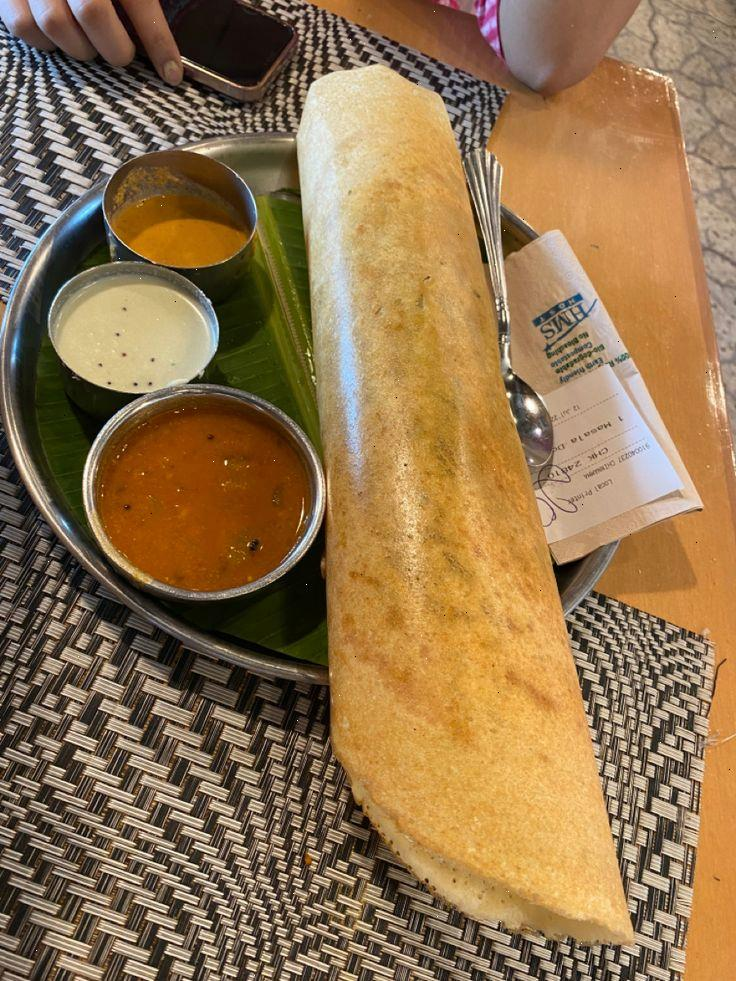dosa: (300, 73, 631, 949)
